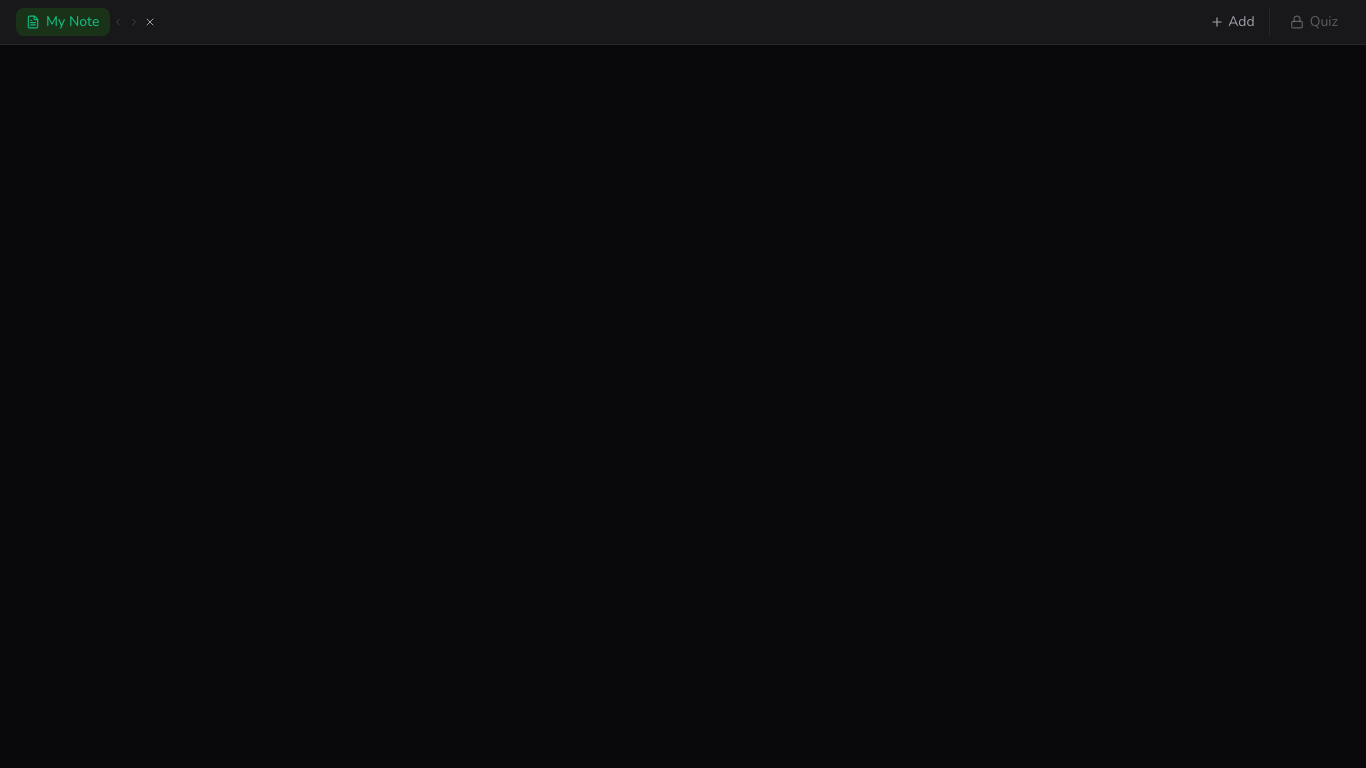
Test: LearningResourceNav › Add resource menu › closes menu when clicking outside
Click the button "Add". click: click(1232, 22)
box: [1200,8,1265,36]
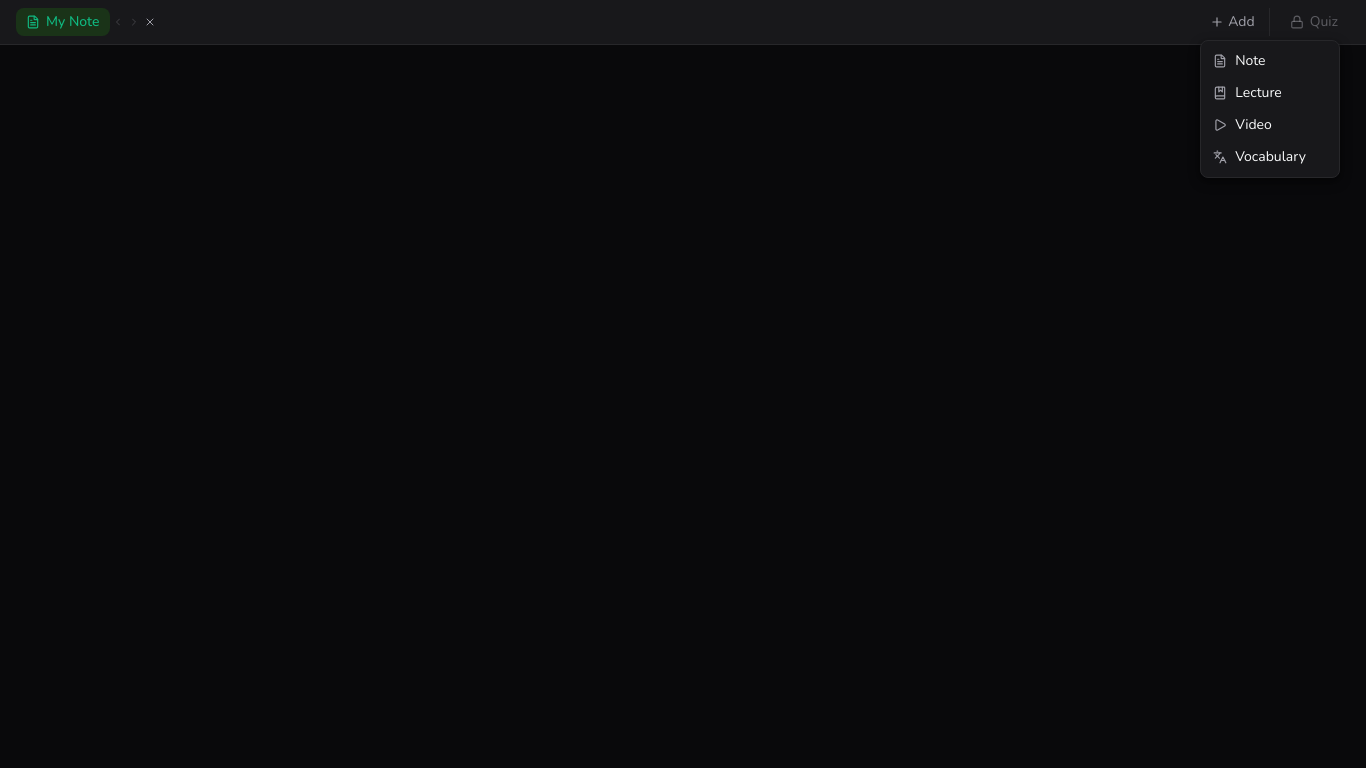
expect the button "Lecture" is shown: met, box [1201,77,1339,109]
Press the mouse on the element showing "My Note Add Note Lecture Video Vocabulary Quiz" at (683, 384), box [0,0,1365,767]
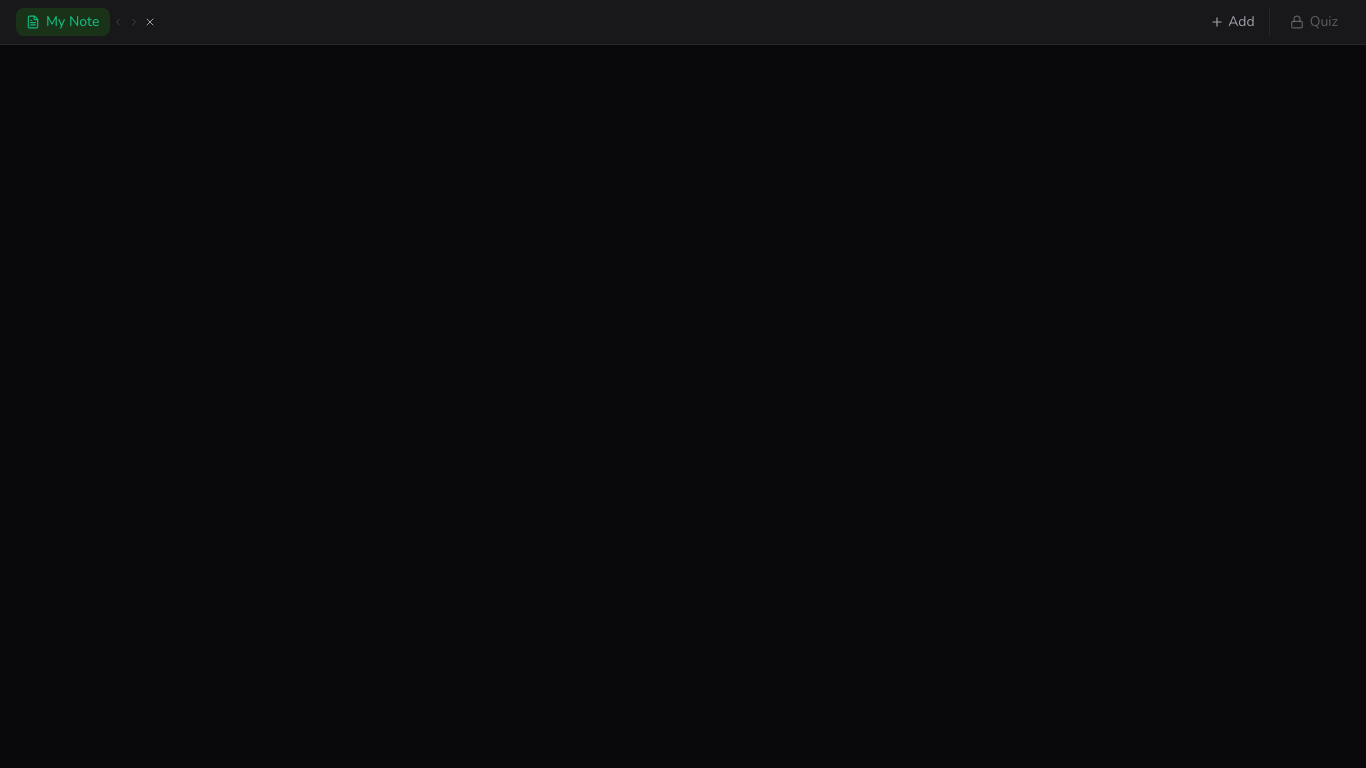
expect the button "Lecture" is gone: met
